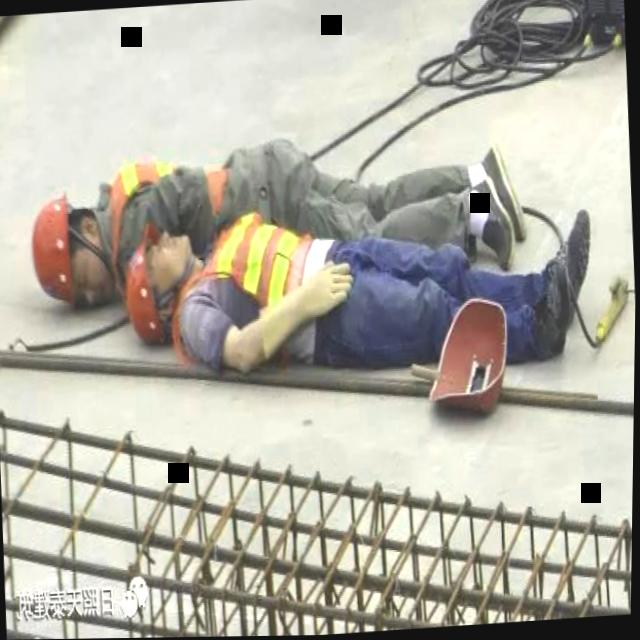Fall-Detected: (50, 108, 570, 299)
